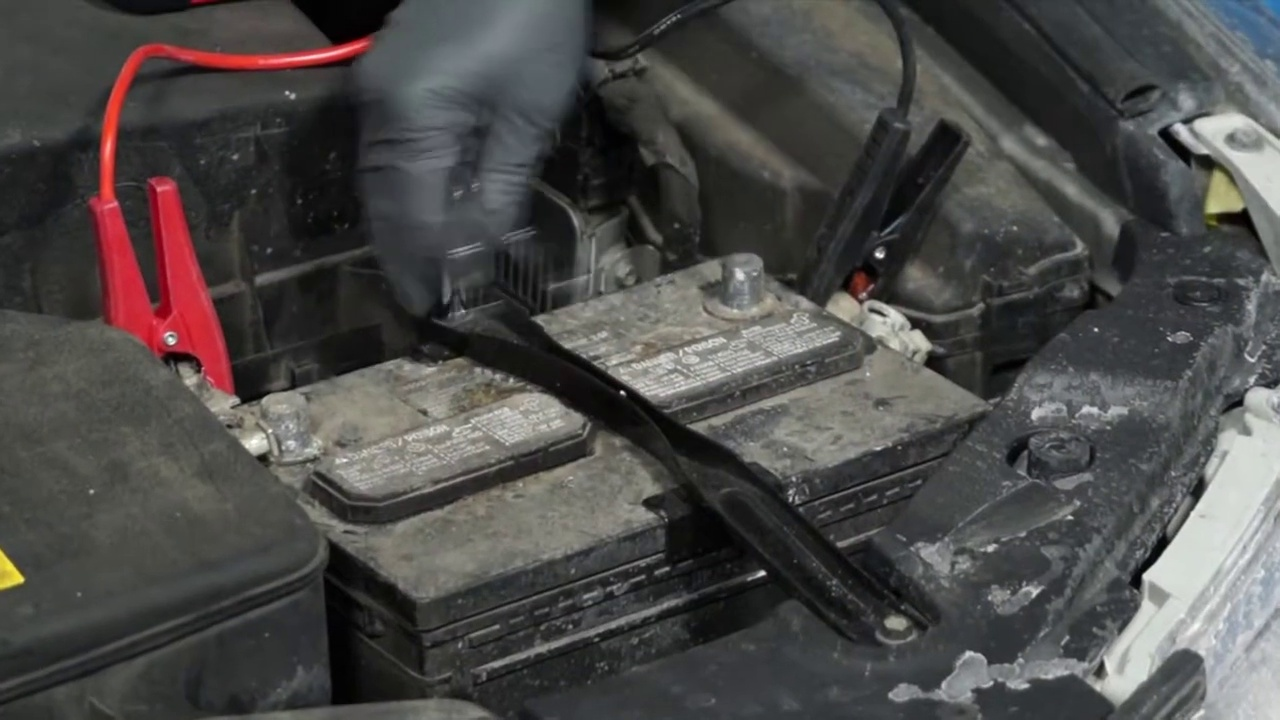battery: (155, 244, 969, 534)
neg_disconnected: (685, 207, 811, 323)
pos_disconnected: (96, 217, 335, 469)
